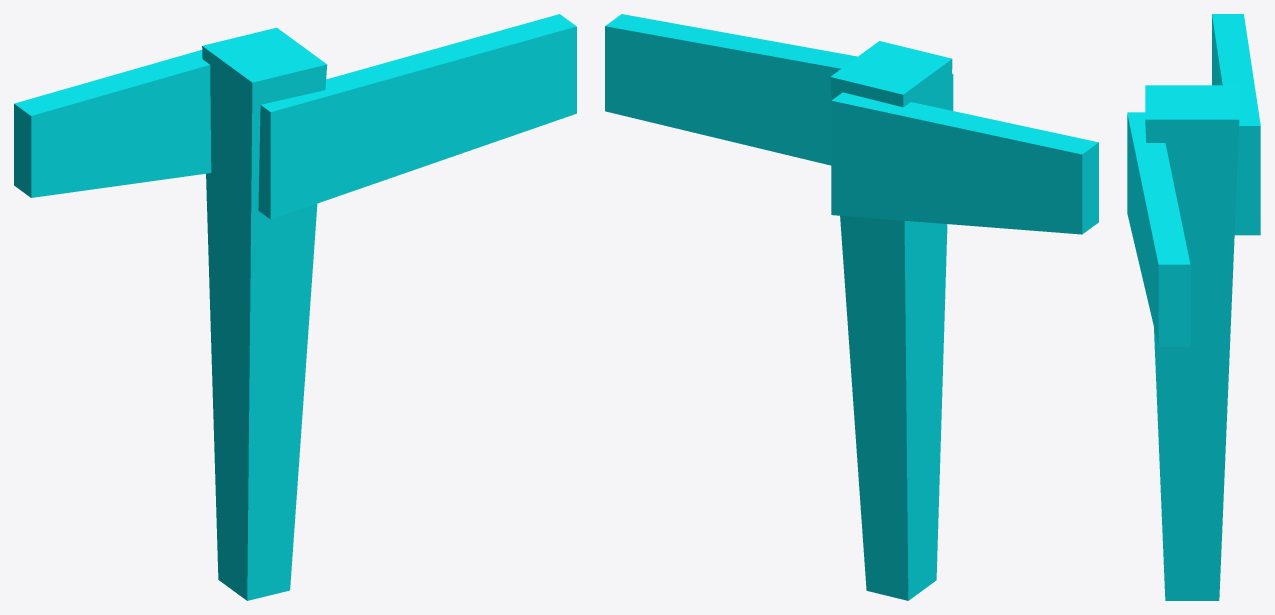
The model's file is forestpack_roadSign_westEast_1_meshCollider.FBX.
3 renders of one model, left to right at view 1: azimuth 30°, elevation 25°; view 2: azimuth 150°, elevation 25°; view 3: azimuth 270°, elevation 25°, orthographic. The views are drawn at different scales.
Parts seen in each view (by area): view 1: forestpack_roadSign_westEast_1_meshCollider; view 2: forestpack_roadSign_westEast_1_meshCollider; view 3: forestpack_roadSign_westEast_1_meshCollider.
Boxes of the visible parts, x1,y1,x2,y2 form: forestpack_roadSign_westEast_1_meshCollider: (14,14,576,600); forestpack_roadSign_westEast_1_meshCollider: (605,14,1098,600); forestpack_roadSign_westEast_1_meshCollider: (1127,14,1260,600).
Size of the model in its own units: 106 by 103 by 25.34.
